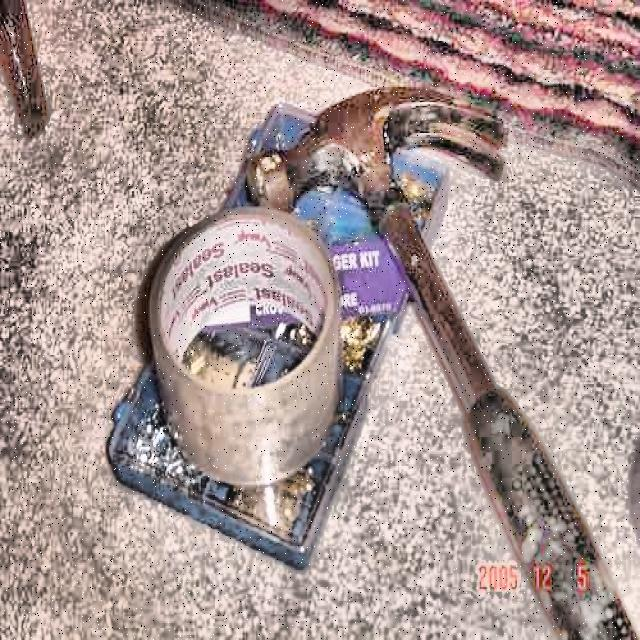hammer: (241, 80, 637, 640)
